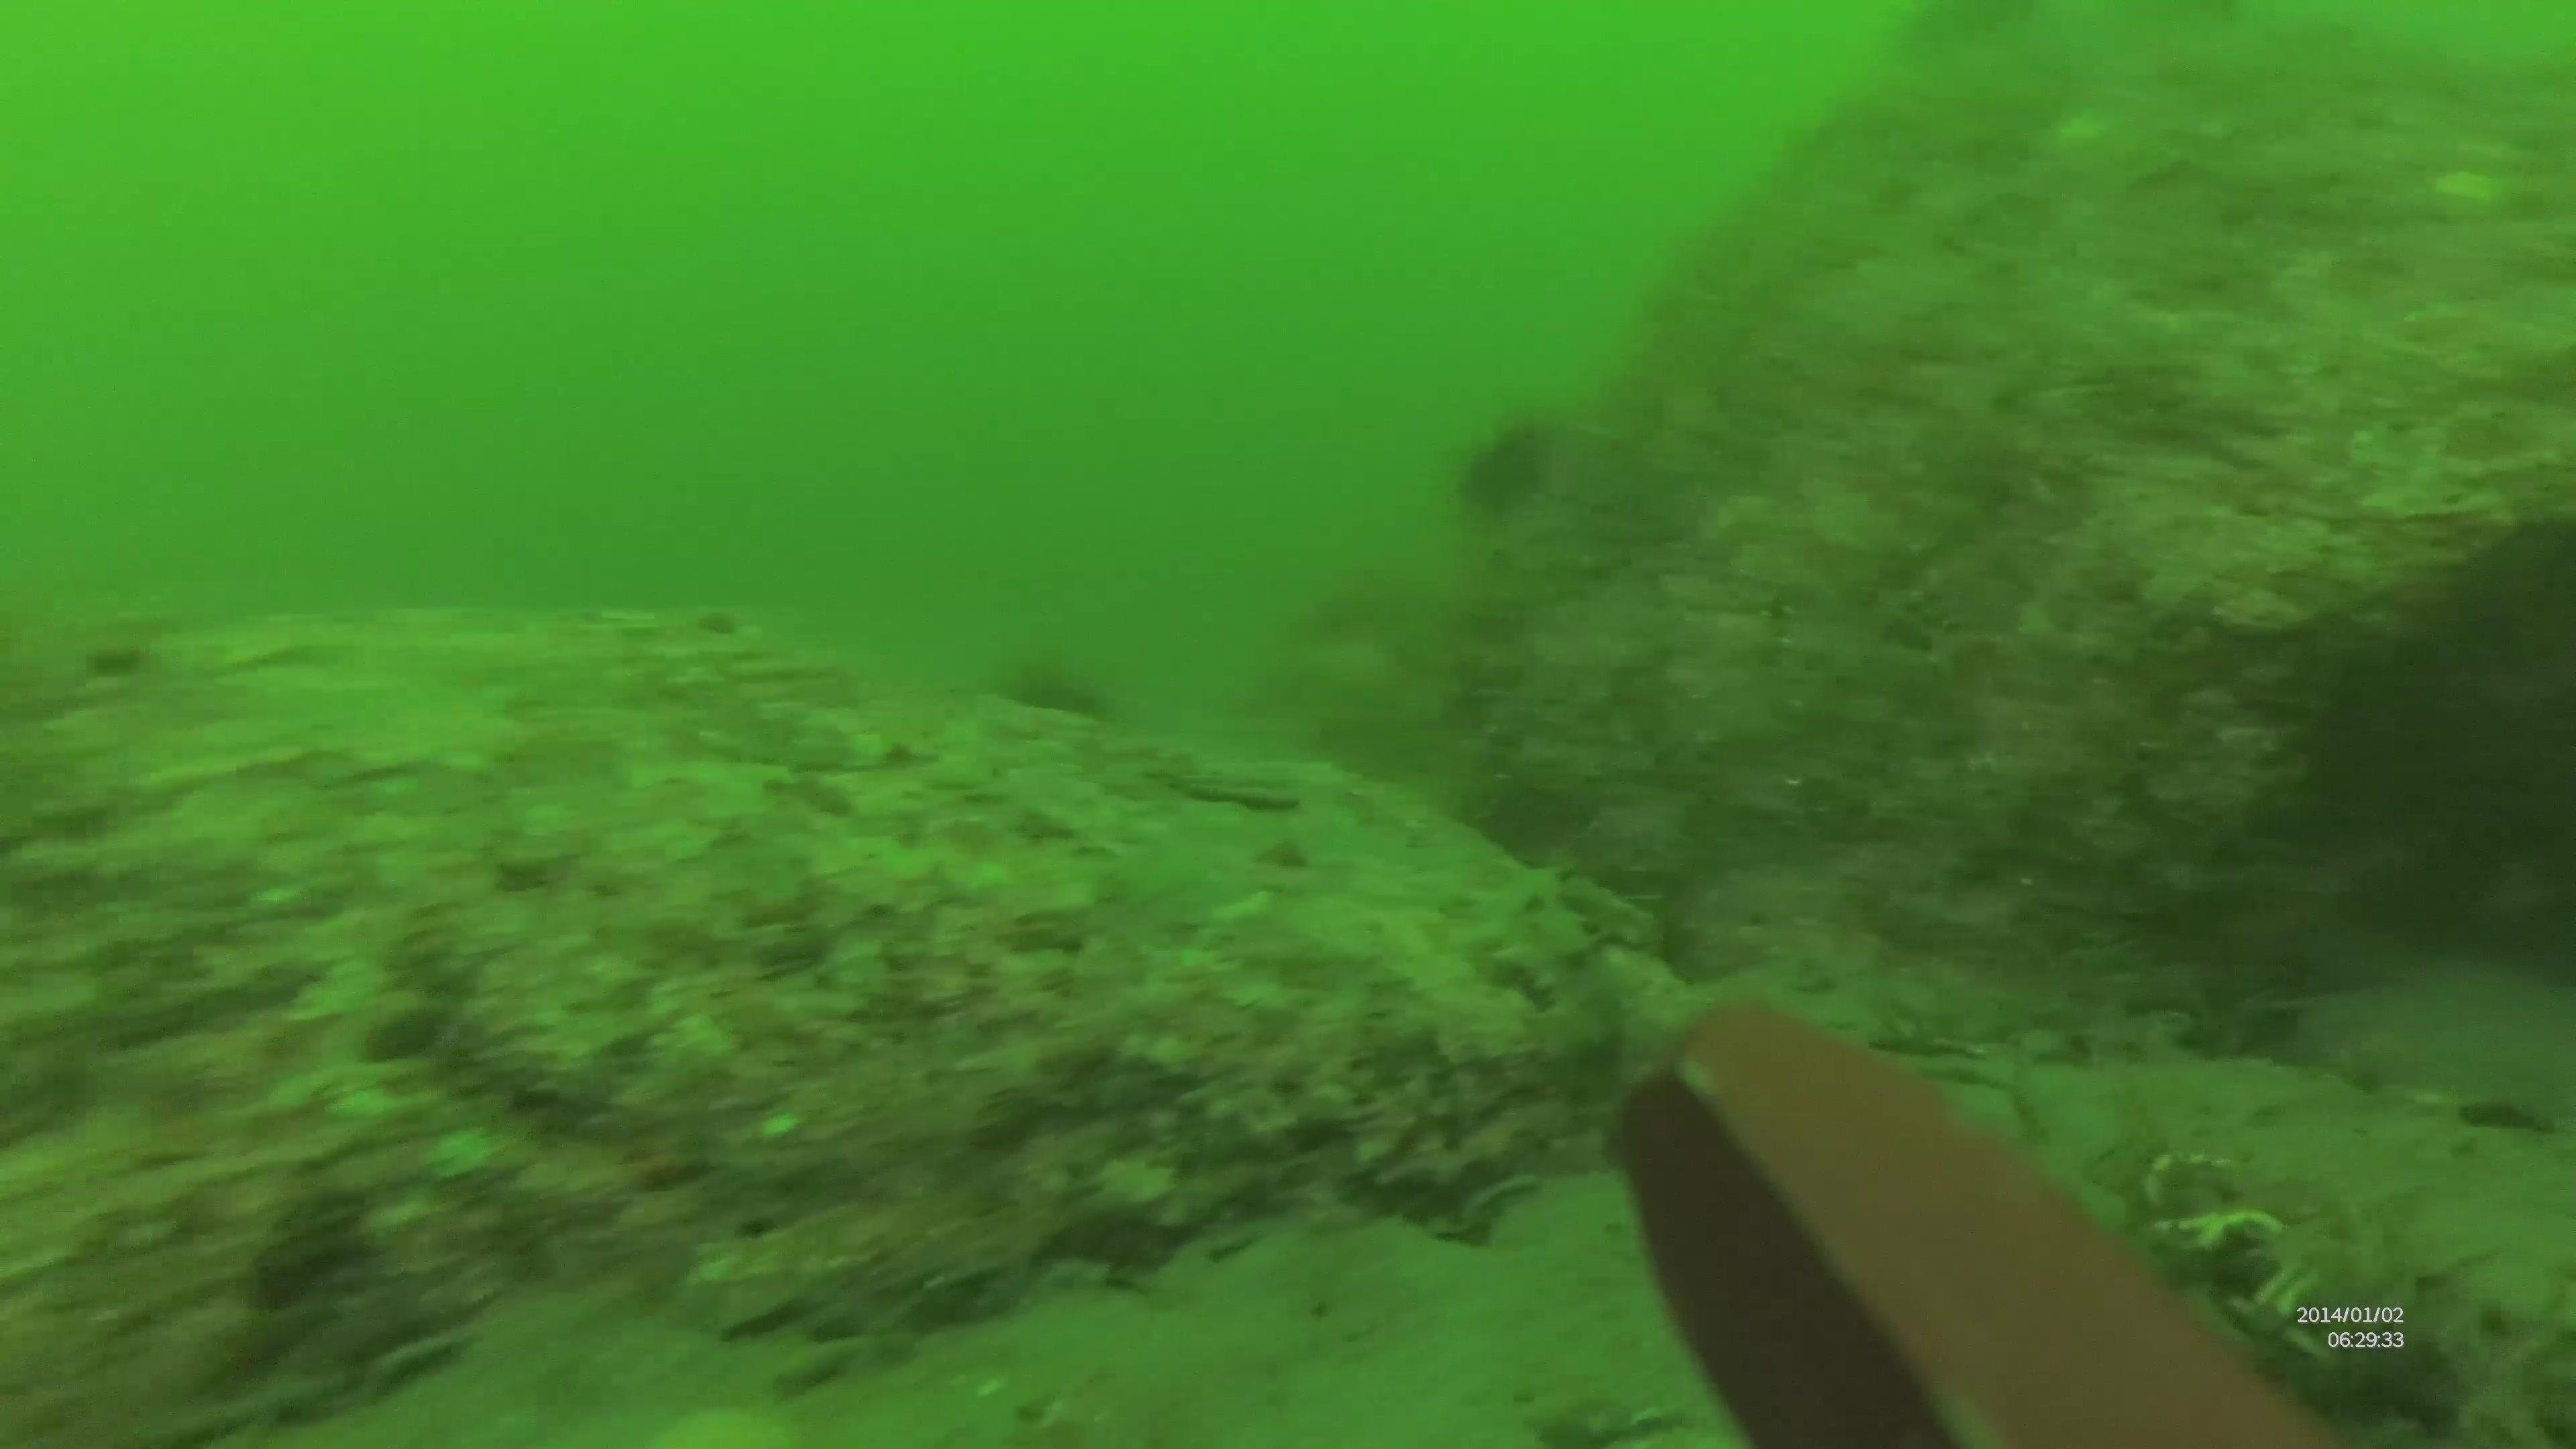echinus: (1461, 416, 1583, 525)
